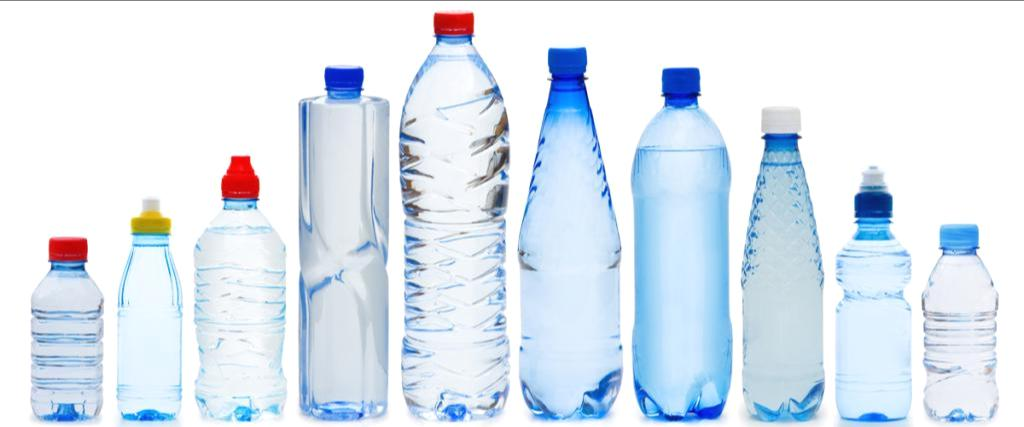bottle: (394, 0, 516, 424), (514, 43, 626, 427), (288, 62, 394, 424), (630, 64, 738, 418), (738, 101, 827, 427), (188, 153, 286, 423), (831, 162, 914, 420), (105, 192, 190, 423), (916, 216, 1004, 426), (22, 230, 106, 426)
